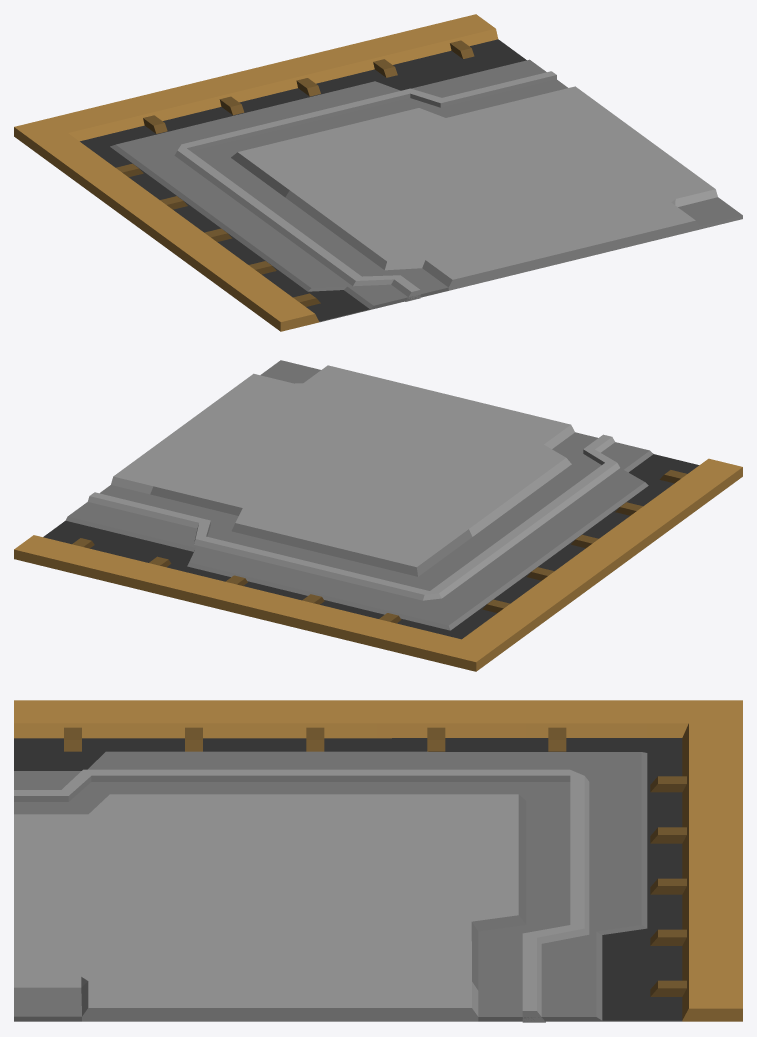
File: FloorTile_Corner.glb
The picture shows the model from 3 angles, top to bottom: view 1: azimuth 30°, elevation 25°; view 2: azimuth 150°, elevation 25°; view 3: azimuth 270°, elevation 25°; orthographic projection. The views are drawn at different scales.
Visible parts, largest first — view 1: FloorTile_Corner; view 2: FloorTile_Corner; view 3: FloorTile_Corner.
Part boxes in pixels (<box>): FloorTile_Corner: <box>14,14,742,331</box>; FloorTile_Corner: <box>14,360,742,671</box>; FloorTile_Corner: <box>14,700,742,1022</box>.
Size of the model in its own units: 2 by 0.0615 by 2.
